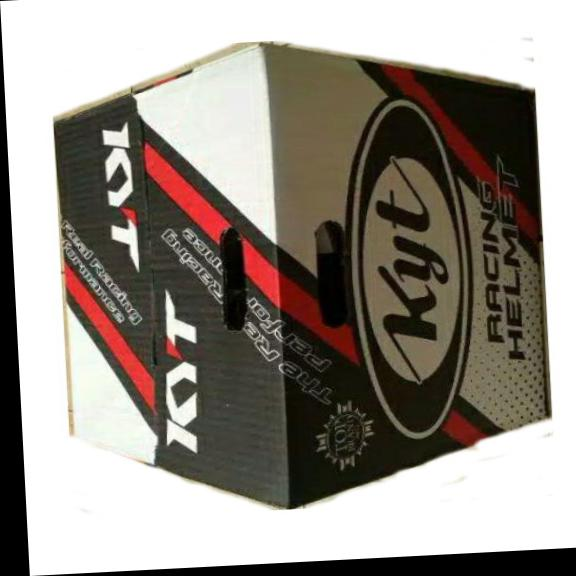Kertas: (55, 44, 547, 507)
